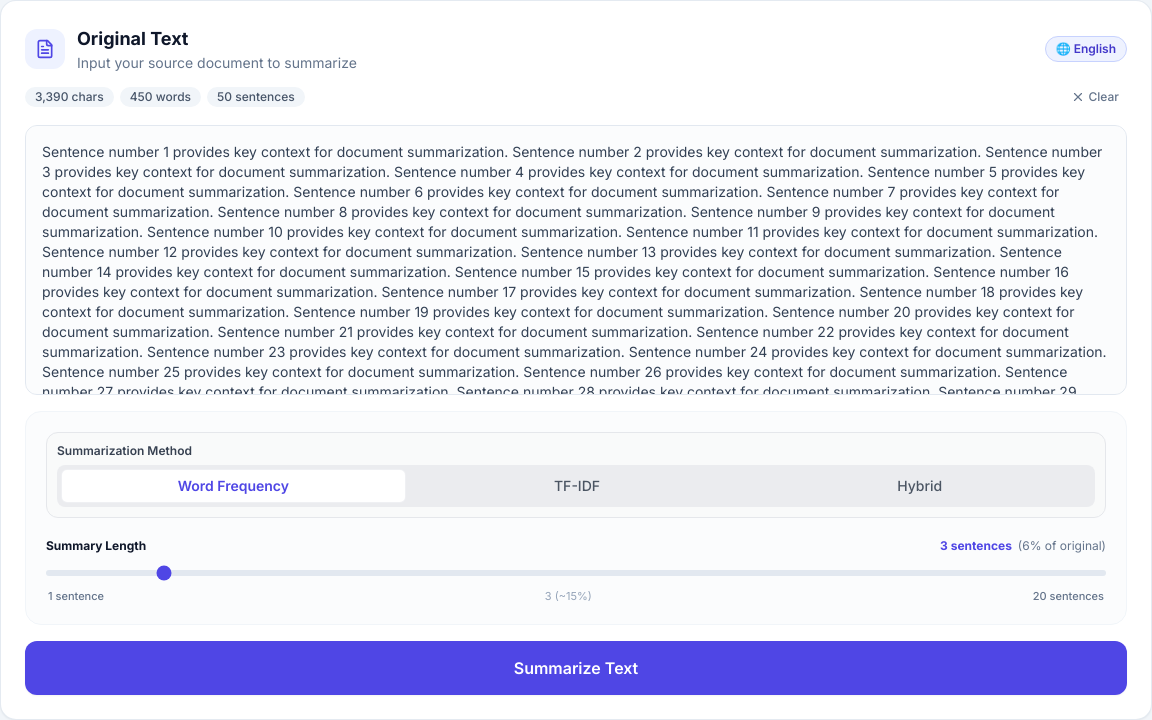
Test: Summary Length Slider Component › 4. Slider Interaction: dragging slider to max value updates displayed value to "20 sentences"
The image size is (1152, 720).
Note: Simulate user sliding thumb to maximum boundary value (20)
Step 1. Set the slider named "summary length in sentences" to "20" → [1098, 572], box [46,570,1106,576]
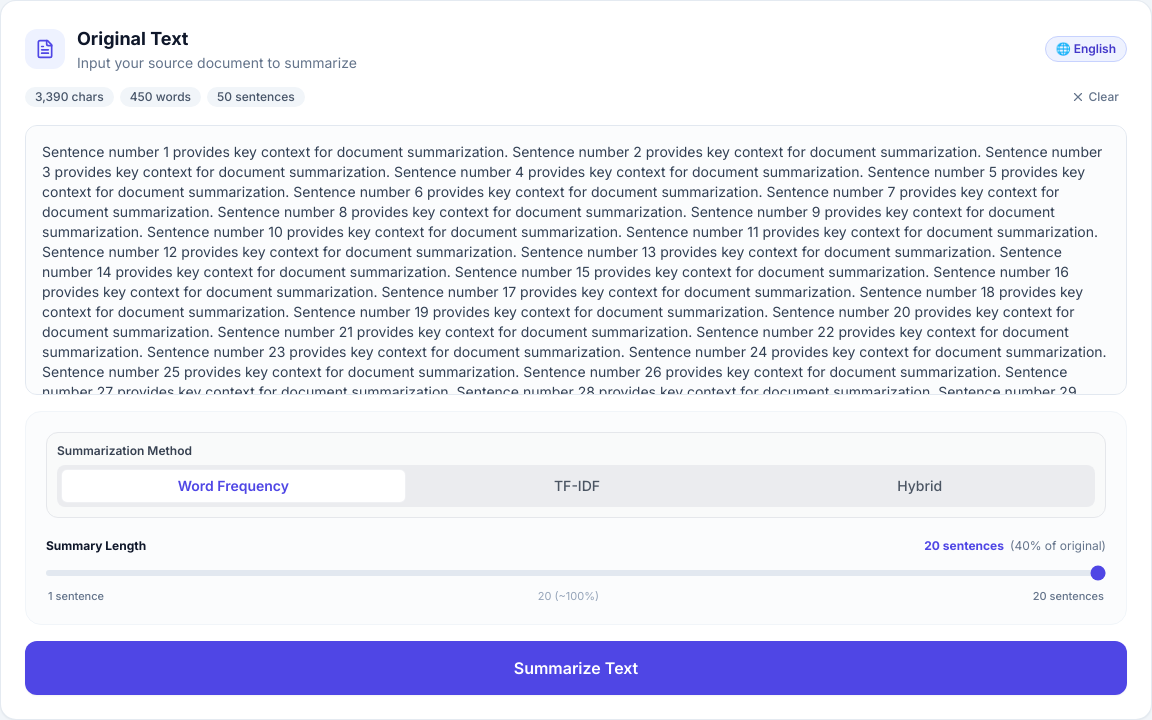
Now the text "20 (~100%)" is shown, box [538,588,599,604]
